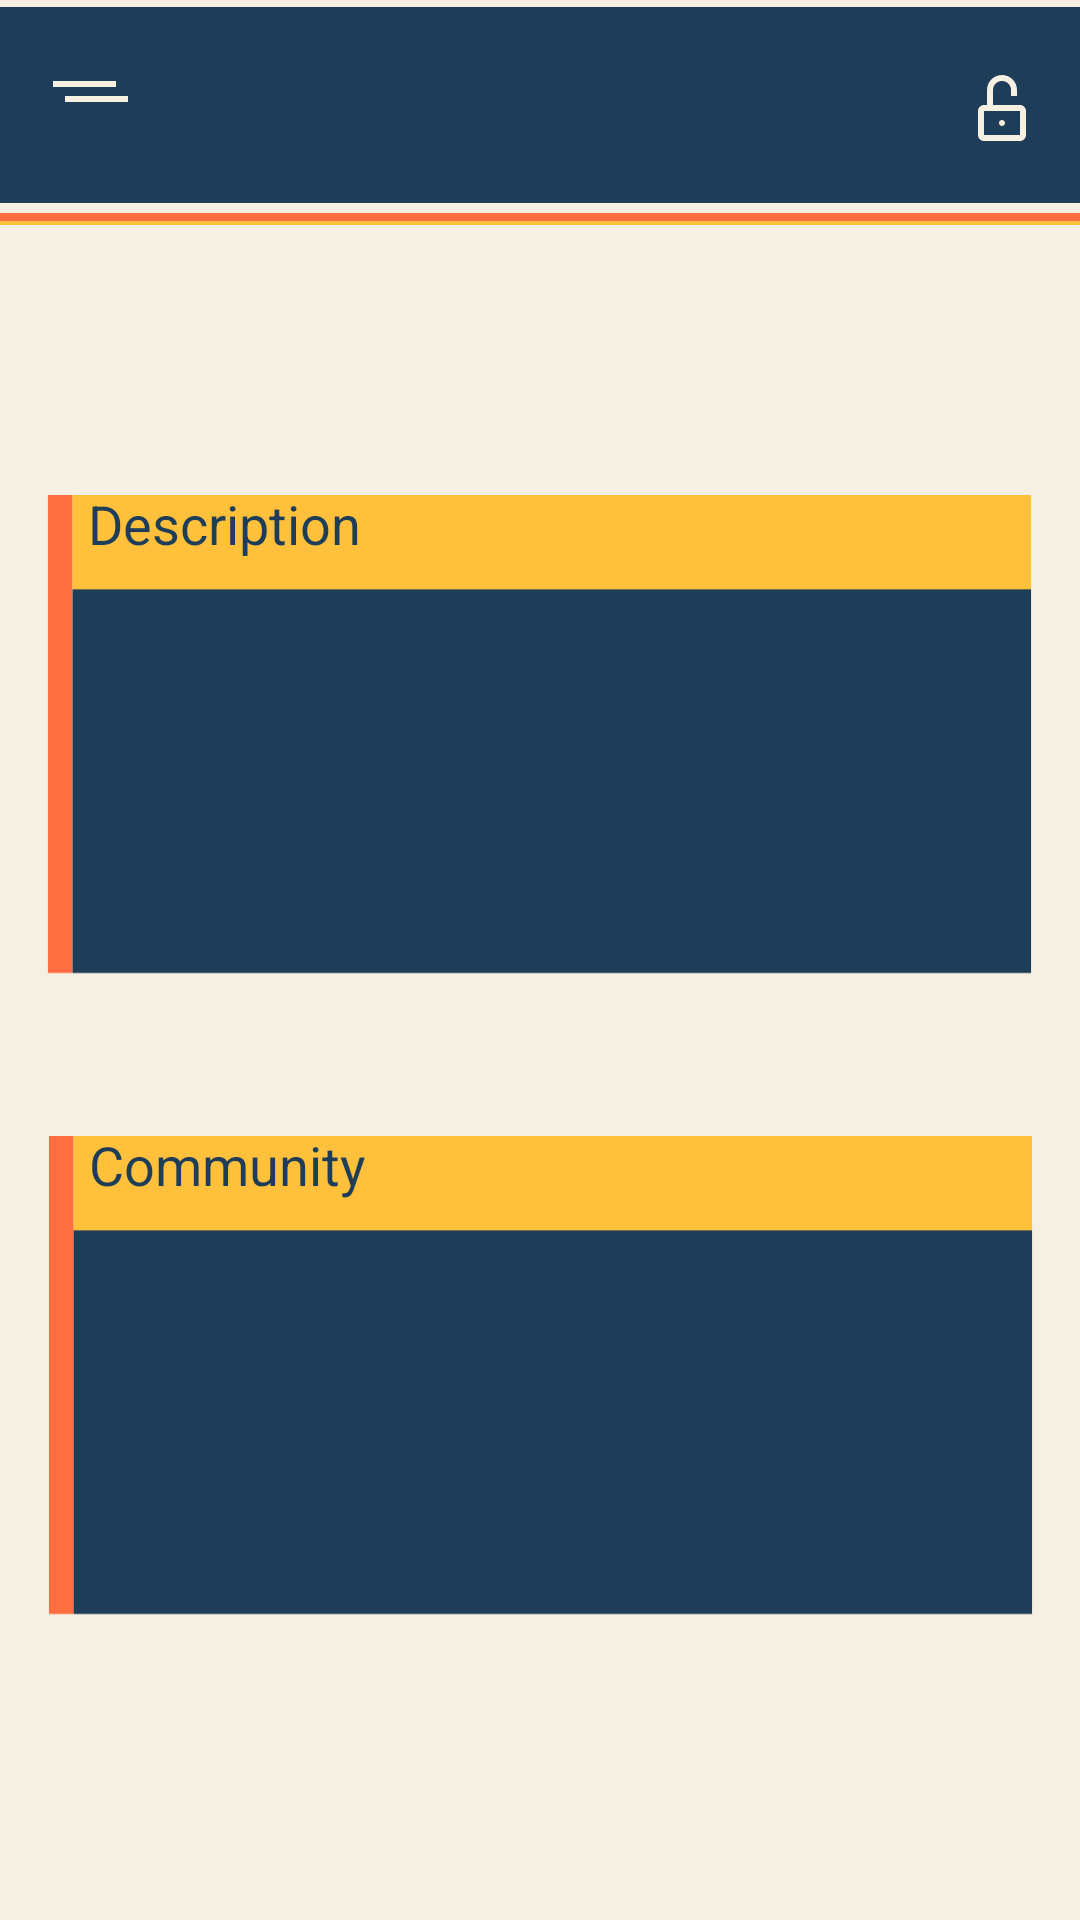

Named icons in this screenshot (1080w x 1920h) and their centers, point (x, y):
menu: point (90, 91)
open cadenas: point (1002, 108)
